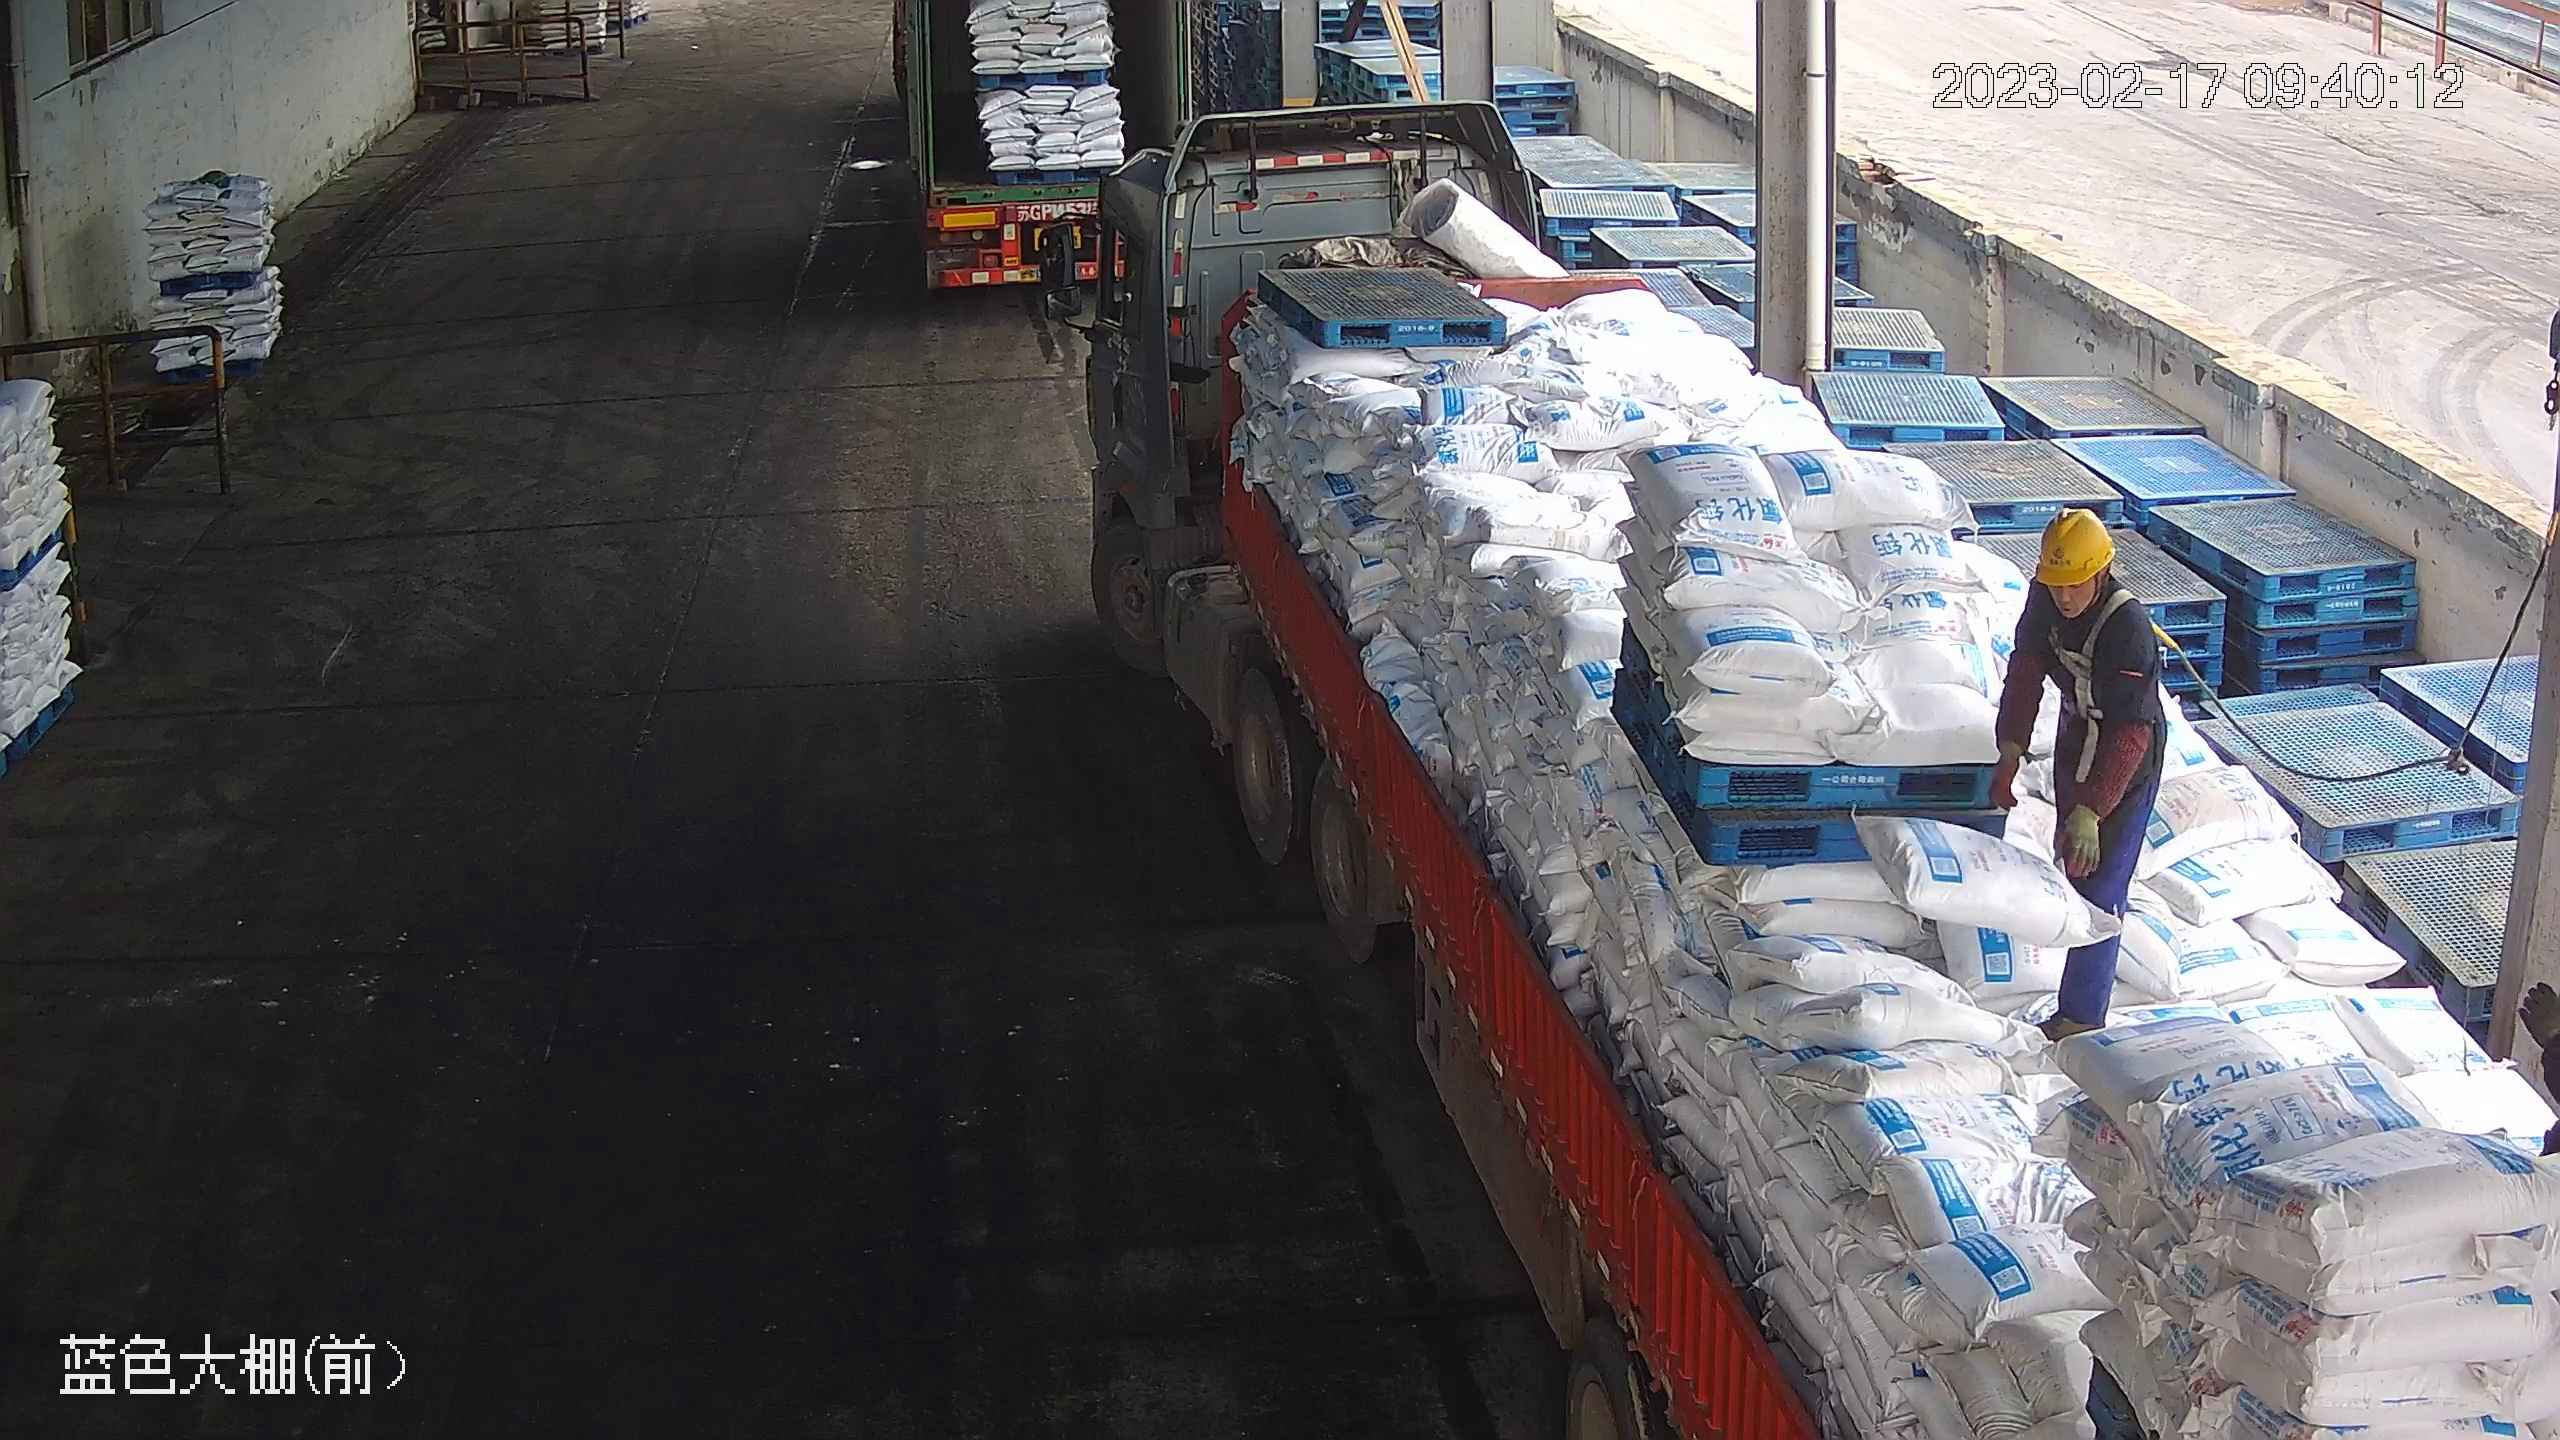belt: (2044, 584, 2176, 678)
head: (2010, 508, 2161, 677)
helmet: (2031, 500, 2119, 589)
people: (1989, 504, 2172, 1043)
truck: (1039, 96, 2559, 1440), (894, 1, 1180, 294)
